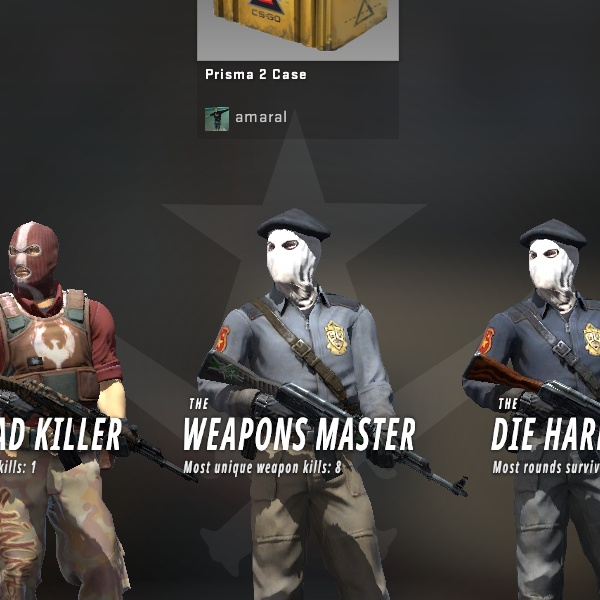t_body: (0, 198, 164, 600)
t_head: (0, 205, 90, 319)
